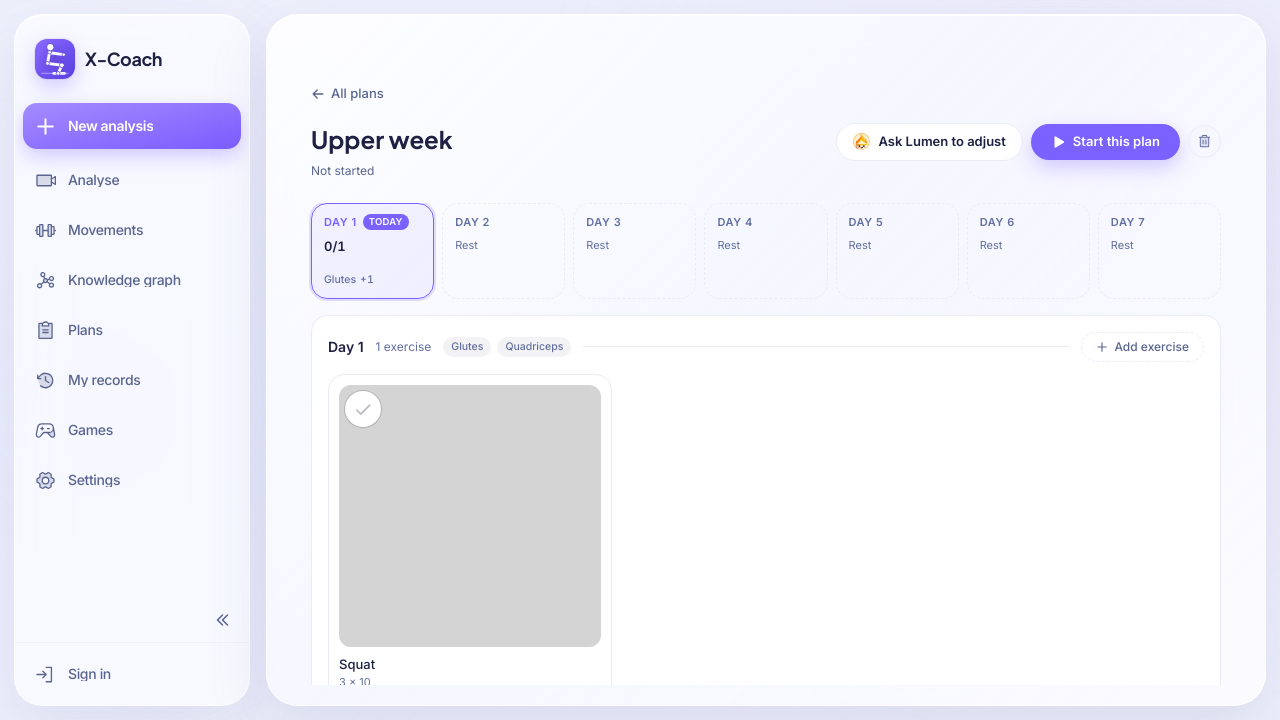
Test case: PlanDetail — editing › ticks an exercise off and keeps the row without refetching the plan
The image size is (1280, 720).
Click the button named "mark squat as done" at (363, 409), box x1=345 y1=391 x2=381 y2=427
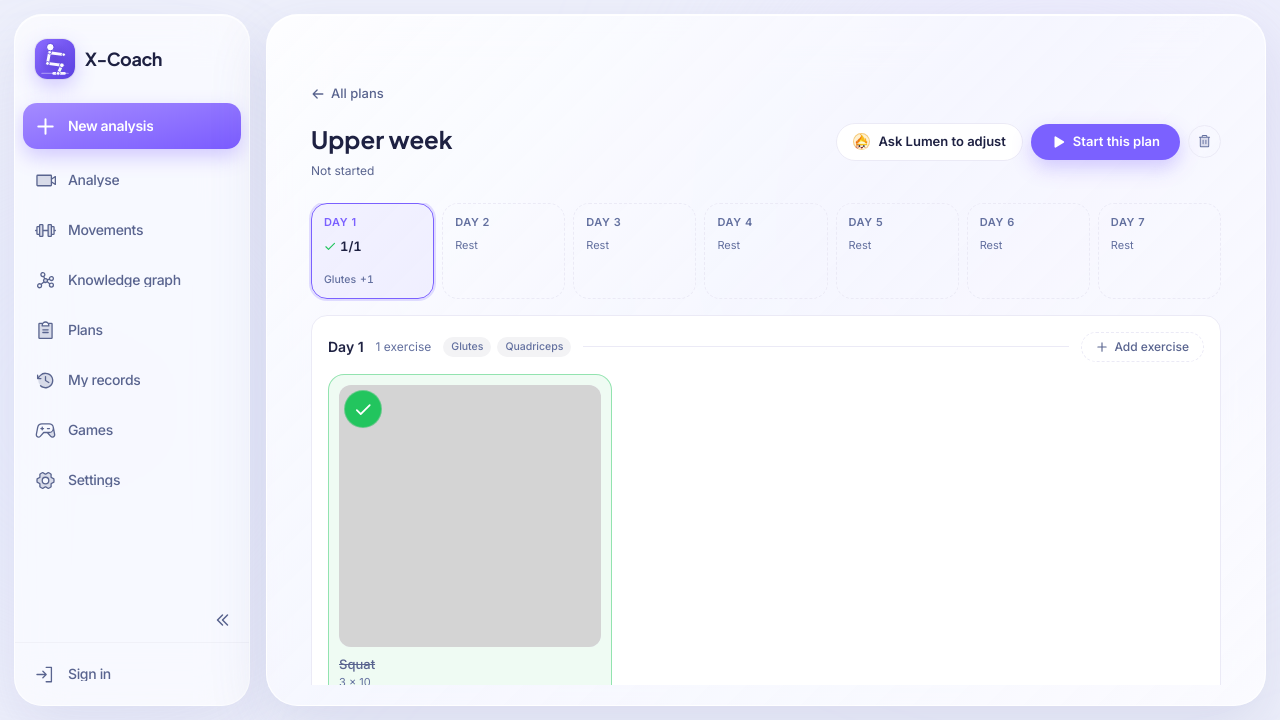
Expected: the button named "mark squat as not done" is shown, x1=345 y1=391 x2=381 y2=427
